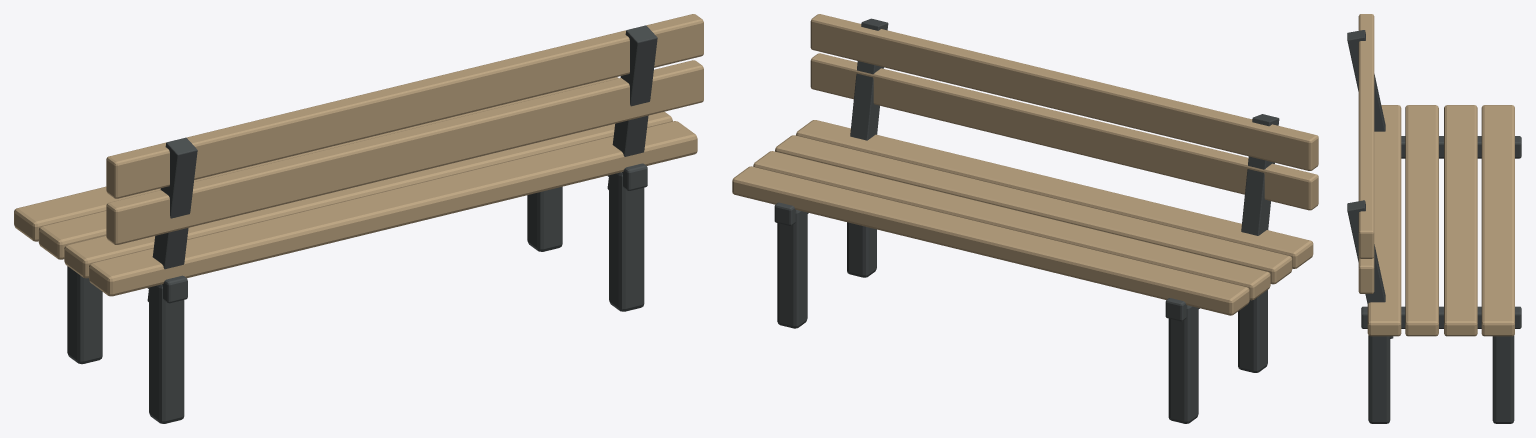
The model's file is quay_bench.glb.
3 renders of one model, left to right at view 1: azimuth 30°, elevation 25°; view 2: azimuth 150°, elevation 25°; view 3: azimuth 270°, elevation 25°, orthographic. The views are drawn at different scales.
Parts seen in each view (by area): view 1: Structure; view 2: Structure; view 3: Structure.
Part boxes in pixels (left/top/right/bottom): Structure: left=14, top=14, right=703, bottom=423; Structure: left=732, top=14, right=1318, bottom=423; Structure: left=1347, top=14, right=1521, bottom=423.
Bounding box in the file's own units: 2 × 0.9262 × 0.6738.
